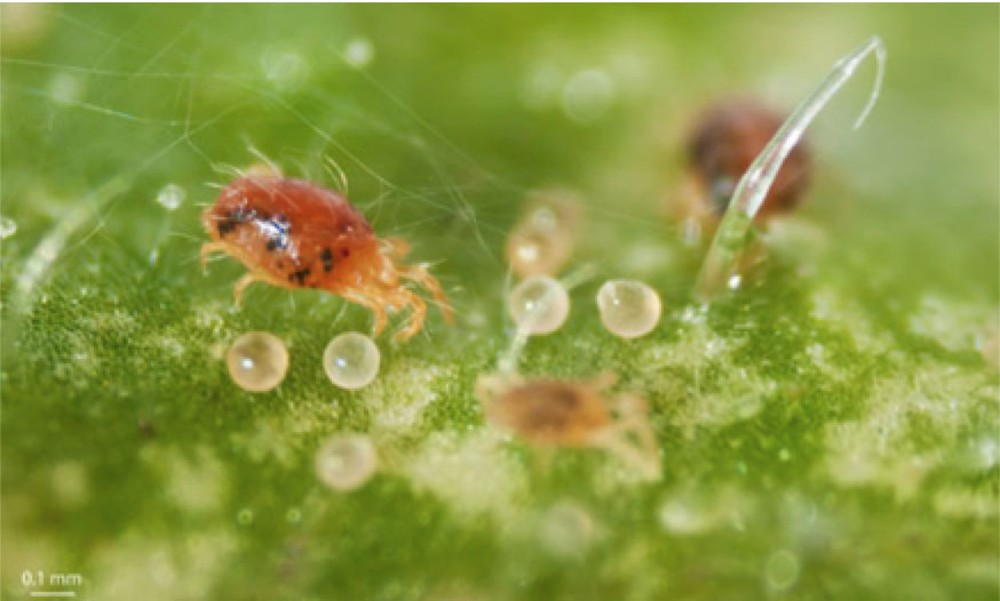Aracnido Rojo: (188, 125, 458, 357), (461, 350, 679, 467)
